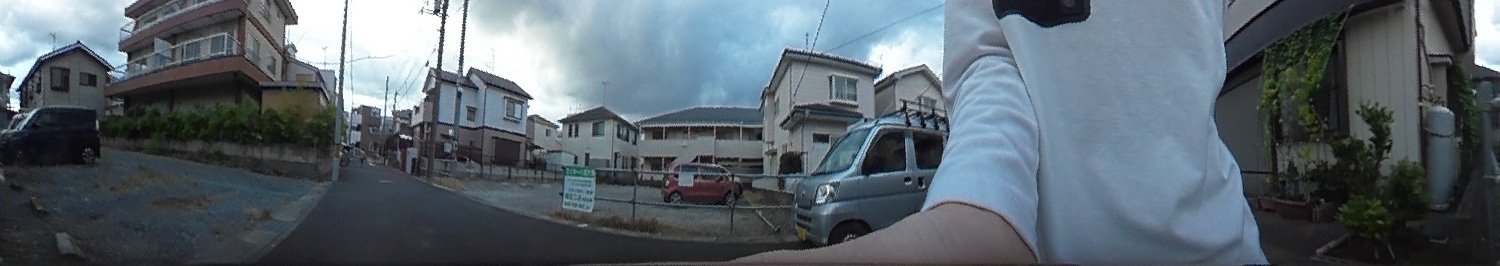difficult_person: (356, 144, 369, 166)
